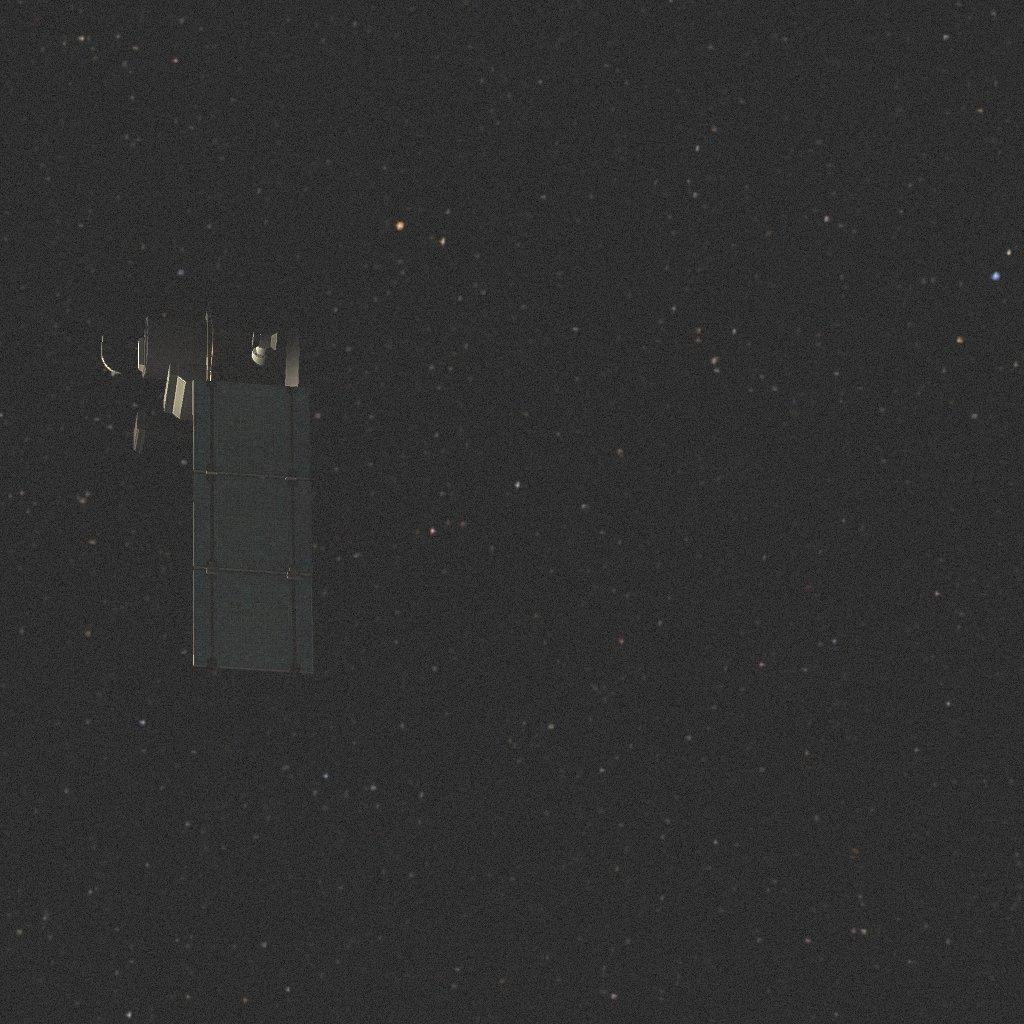earth_observation_sat_1: (102, 302, 314, 674)
